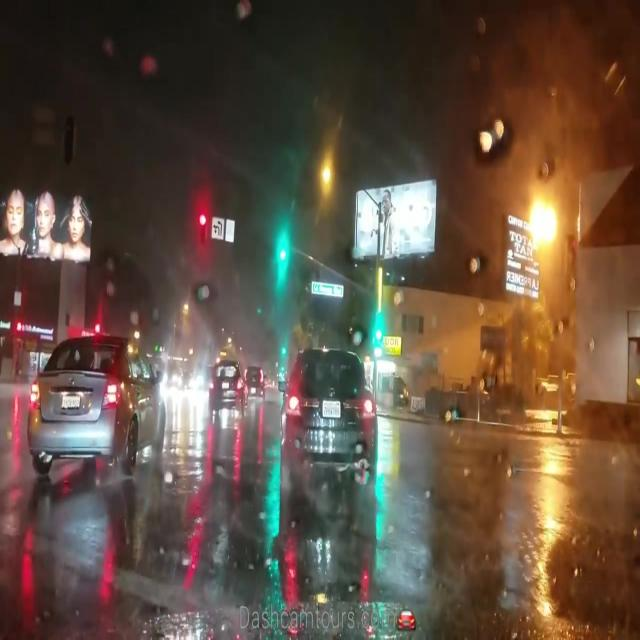Car: (22, 334, 165, 484), (280, 346, 378, 491), (208, 357, 245, 415), (243, 364, 262, 401)
